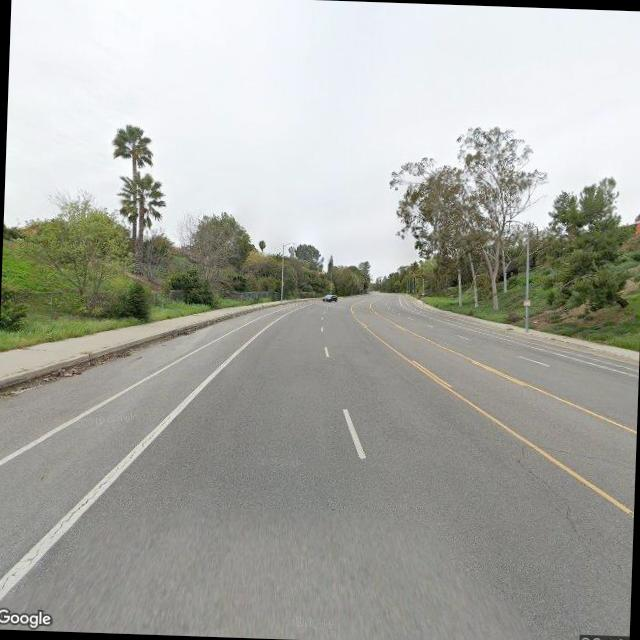pothole: (509, 437, 601, 562)
